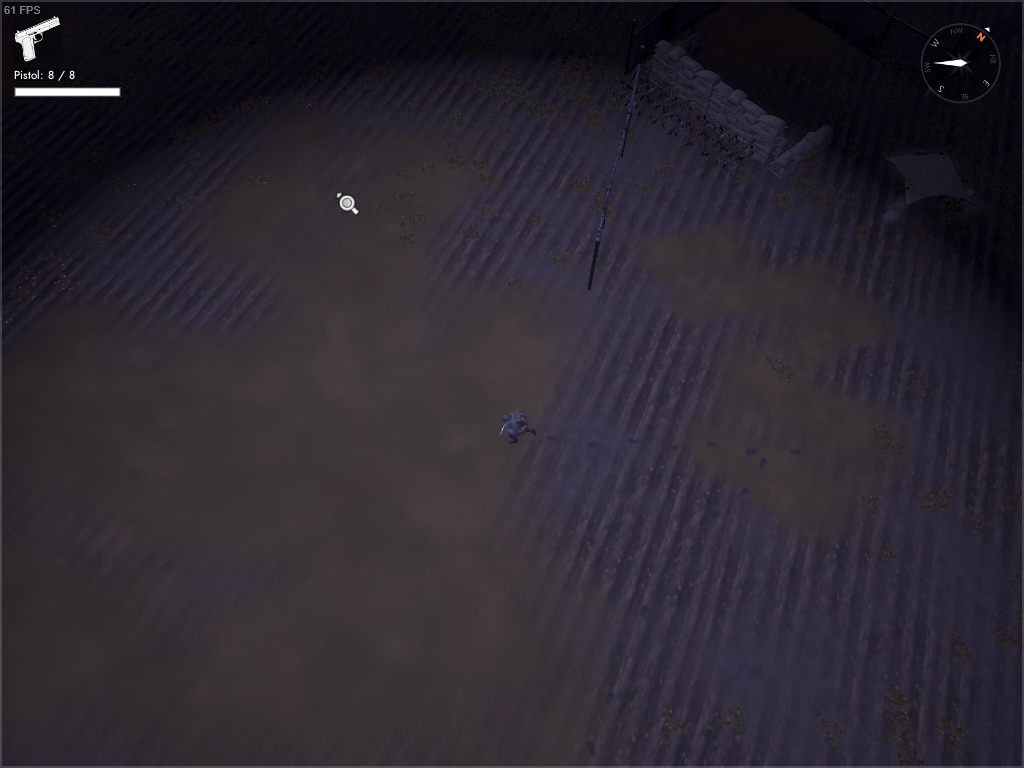fence: (579, 41, 651, 294)
foxhole: (865, 133, 988, 228)
player: (496, 407, 540, 446)
sandbag: (642, 39, 786, 170), (762, 113, 838, 180), (634, 31, 711, 85)
wire: (614, 69, 756, 180)
